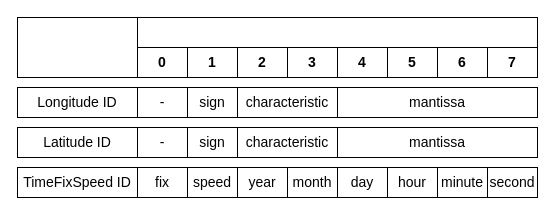
This 555x215 diagram has some shape labels left out. The shapes that lost their labels are listed below. From the top down, each one's centre as x and y in pixels, then its label:
point (77, 47): CAN ID
point (337, 32): 8 data bytes
